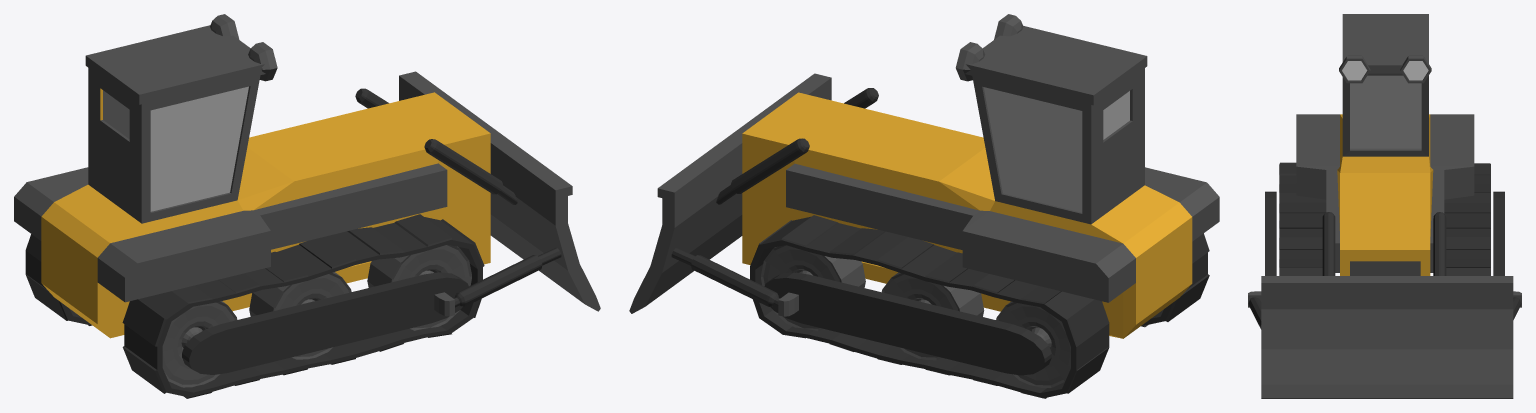
3 renders of one model, left to right at view 1: azimuth 30°, elevation 25°; view 2: azimuth 150°, elevation 25°; view 3: azimuth 270°, elevation 25°, orthographic. The views are drawn at different scales.
Parts seen in each view (by area): view 1: C-11, Plane.006, Cube.081, Cube.084, Cylinder.080, Cylinder.079, Cylinder.081, Cube.087, Cube.085, Plane.007; view 2: C-11, Plane.007, Cube.082, Cube.084, Cylinder.077, Cylinder.076, Cylinder.078, Cube.088, Cube.086, Plane.006; view 3: C-11, Cube.084, Plane.006, Plane.007, Cube.081, Cube.082, Cube.085, Cube.086, Cube.087.
Part boxes in pixels (box(x1,y1,x2,y2)): C-11: box(14, 14, 490, 338); Plane.006: box(122, 214, 484, 398); Cube.081: box(182, 272, 468, 374); Cube.084: box(399, 71, 600, 311); Cylinder.080: box(162, 301, 237, 387); Cylinder.079: box(367, 245, 471, 330); Cylinder.081: box(249, 272, 351, 359); Cube.087: box(453, 248, 561, 307); Cube.085: box(424, 139, 517, 204); Plane.007: box(25, 234, 92, 325); C-11: box(742, 14, 1219, 338); Plane.007: box(750, 215, 1109, 398); Cube.082: box(764, 272, 1051, 375); Cube.084: box(629, 73, 831, 313); Cylinder.077: box(996, 301, 1070, 387); Cylinder.076: box(761, 245, 865, 331); Cylinder.078: box(881, 272, 984, 360); Cube.088: box(671, 248, 779, 307); Cube.086: box(716, 138, 809, 204); Plane.006: box(1141, 233, 1209, 327); C-11: box(1296, 14, 1474, 275); Cube.084: box(1261, 276, 1513, 398); Plane.006: box(1279, 162, 1326, 275); Plane.007: box(1444, 163, 1490, 275); Cube.081: box(1265, 191, 1276, 275); Cube.082: box(1493, 191, 1504, 275); Cube.085: box(1322, 212, 1335, 275); Cube.086: box(1433, 212, 1446, 275); Cube.087: box(1248, 297, 1261, 329).
Size of the model in its own units: 1415 by 864 by 919.
